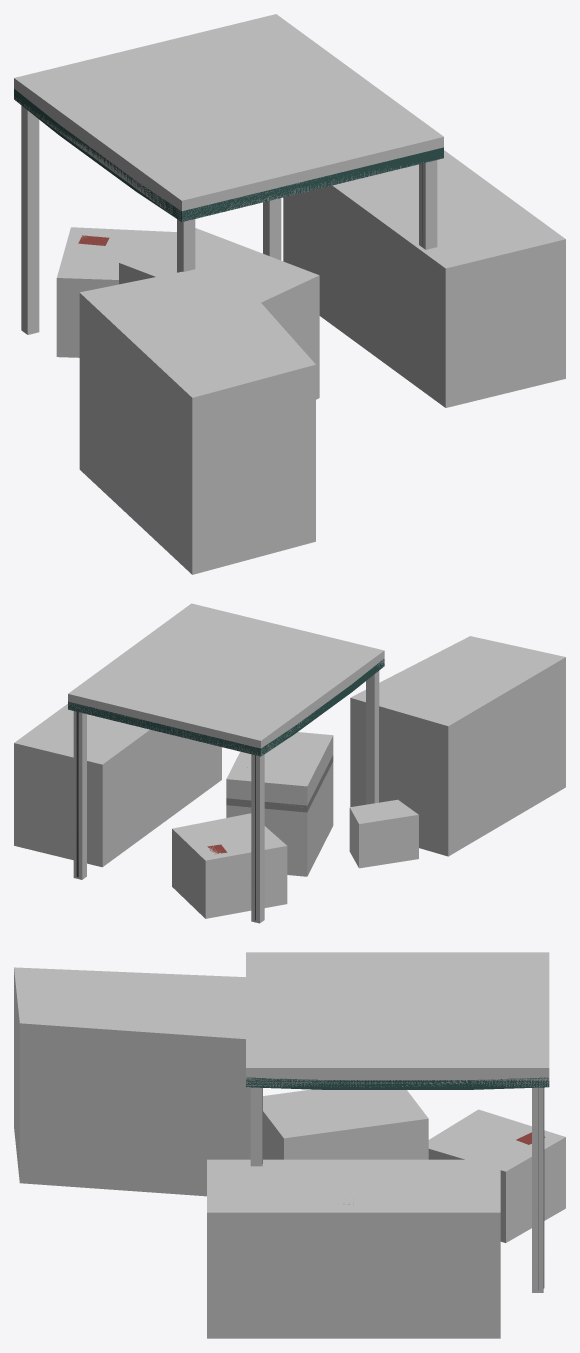
Rendered from SM_Market_Electronic.fbx.
3 views of the same model, one above another, from view 1: azimuth 30°, elevation 25°; view 2: azimuth 150°, elevation 25°; view 3: azimuth 270°, elevation 25° (orthographic). The views are drawn at different scales.
Parts seen in each view (by area): view 1: SM_Market_Electronic_ConvexHulls, SM_Market_Electronic; view 2: SM_Market_Electronic_ConvexHulls, SM_Market_Electronic; view 3: SM_Market_Electronic_ConvexHulls, SM_Market_Electronic.
Part boxes in pixels (bbox=[...]): SM_Market_Electronic_ConvexHulls: bbox=[14, 14, 565, 574]; SM_Market_Electronic: bbox=[14, 89, 443, 246]; SM_Market_Electronic_ConvexHulls: bbox=[14, 603, 565, 923]; SM_Market_Electronic: bbox=[68, 659, 384, 920]; SM_Market_Electronic_ConvexHulls: bbox=[14, 952, 565, 1338]; SM_Market_Electronic: bbox=[246, 1077, 549, 1289].
Bounding box in the file's own units: 632 × 696 × 316.
2 materials, 1 textured.
